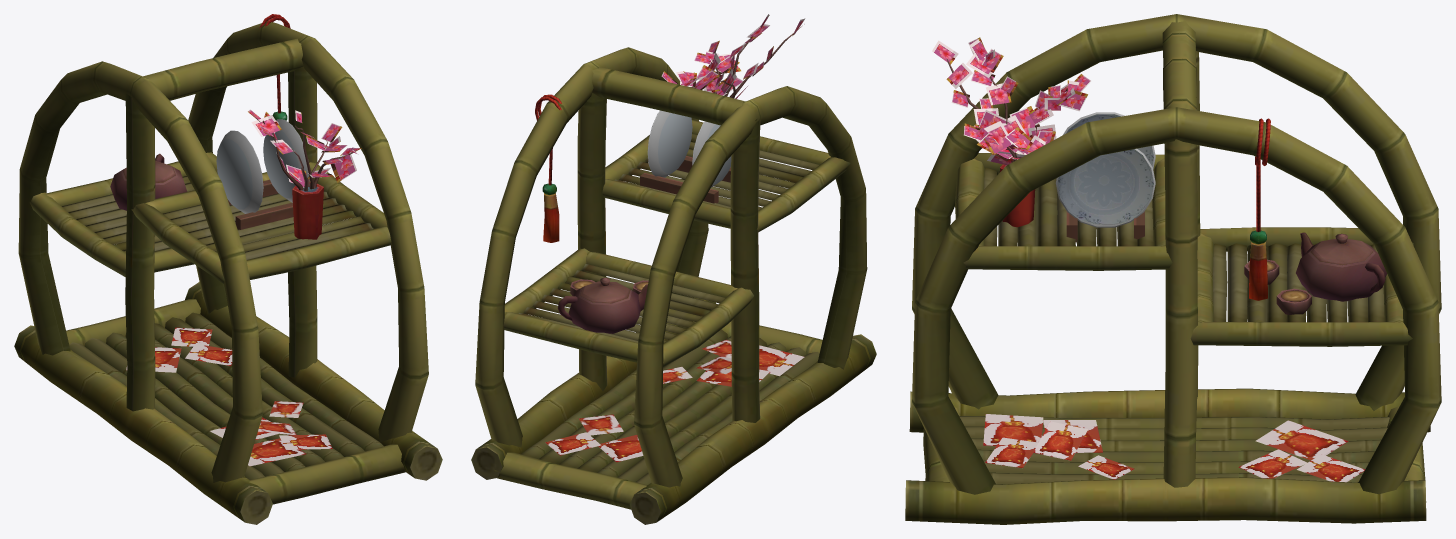
The model's file is furn_bamboo_shelf.gltf.
The picture shows the model from 3 angles, left to right: view 1: azimuth 30°, elevation 25°; view 2: azimuth 150°, elevation 25°; view 3: azimuth 270°, elevation 25°; orthographic projection. The views are drawn at different scales.
Parts seen in each view (by area): view 1: bamboo_shelf; view 2: bamboo_shelf; view 3: bamboo_shelf.
Part boxes in pixels (x1,y1,x2,y2): bamboo_shelf: (14, 14, 442, 524); bamboo_shelf: (471, 14, 876, 524); bamboo_shelf: (905, 14, 1441, 524).
Bounding box in the file's own units: 0.7928 × 1.4 × 1.57.
Materials: 2 (2 with a texture image).
